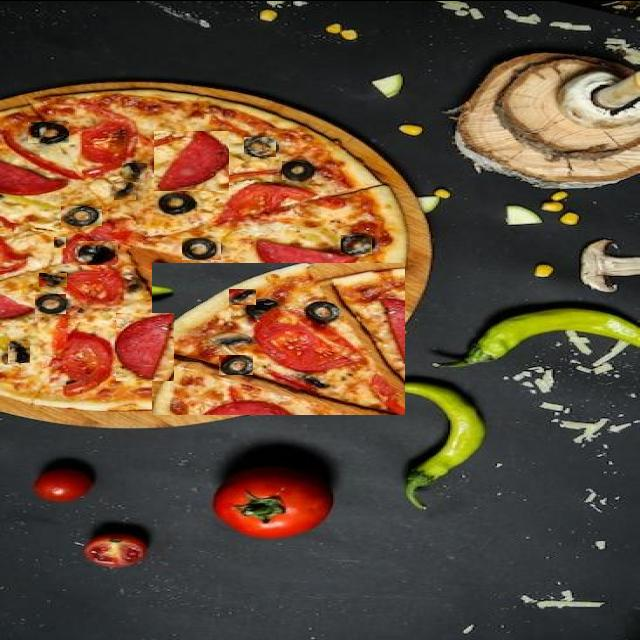olive: (78, 240, 118, 264), (159, 191, 197, 215), (28, 121, 69, 142), (182, 237, 221, 259), (61, 205, 102, 225), (219, 354, 253, 374), (244, 136, 276, 156), (35, 293, 66, 313), (280, 360, 312, 379), (341, 234, 372, 253), (282, 160, 312, 179), (8, 340, 30, 362), (229, 288, 256, 304), (122, 160, 147, 177), (39, 272, 67, 286), (115, 181, 136, 199), (54, 234, 66, 247)
pepperoni: (154, 130, 229, 190), (116, 312, 174, 380), (254, 239, 357, 273), (0, 162, 70, 195), (0, 294, 35, 322)
pizza: (0, 89, 408, 412), (152, 262, 405, 414)
